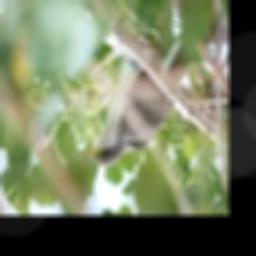Cuckoo: (79, 32, 190, 167)
